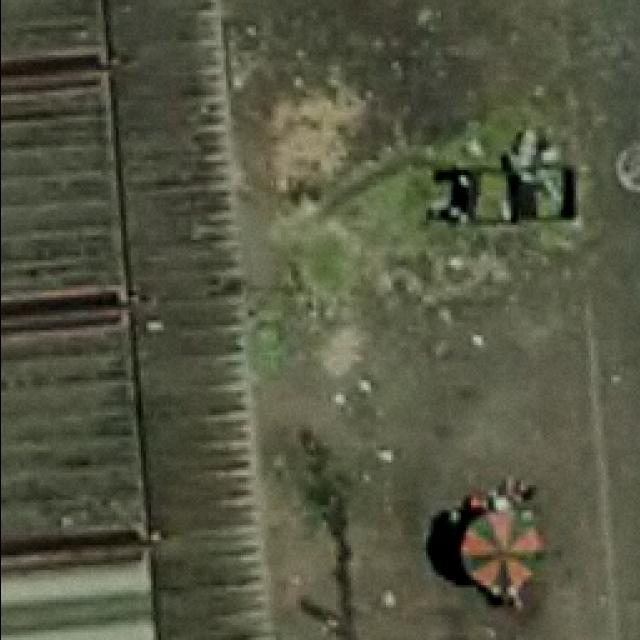vendedor_ambulante: (432, 499, 548, 604)
